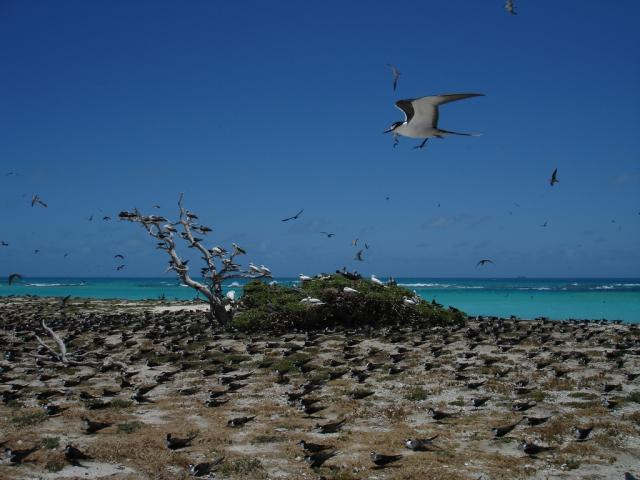Bird: (0, 1, 640, 352), (384, 91, 486, 149), (449, 316, 627, 346), (0, 440, 43, 466), (403, 433, 447, 452), (298, 452, 339, 472), (80, 416, 116, 436), (518, 440, 558, 458), (188, 458, 224, 476), (278, 387, 318, 403), (312, 418, 351, 434), (372, 451, 408, 468), (490, 422, 522, 441), (62, 446, 95, 464), (296, 442, 338, 454), (428, 408, 461, 423), (168, 434, 198, 450), (225, 415, 257, 428), (298, 404, 329, 416), (467, 397, 492, 411), (461, 380, 487, 393), (135, 383, 159, 397), (574, 427, 594, 443), (524, 418, 551, 429), (80, 389, 101, 403), (450, 371, 471, 385), (348, 392, 377, 402), (0, 392, 22, 405), (362, 361, 384, 374), (548, 368, 570, 380), (94, 365, 120, 375), (132, 396, 158, 406), (509, 401, 532, 412), (60, 379, 82, 390), (298, 383, 318, 395), (398, 296, 416, 309), (173, 387, 202, 395), (602, 349, 623, 360), (35, 374, 58, 384), (88, 402, 111, 412), (222, 384, 250, 392), (40, 405, 60, 416), (326, 370, 348, 380), (353, 374, 373, 385), (204, 400, 231, 408), (304, 377, 328, 386), (121, 370, 142, 380), (421, 362, 442, 372), (126, 352, 142, 365), (31, 392, 60, 399), (102, 388, 124, 397), (602, 399, 620, 410), (622, 373, 640, 384), (452, 364, 476, 372), (76, 372, 95, 382), (610, 358, 629, 368), (48, 366, 74, 373), (145, 360, 165, 369), (198, 370, 216, 380), (298, 366, 316, 376), (495, 368, 513, 378), (411, 339, 427, 350), (462, 351, 478, 362), (480, 357, 502, 365), (429, 348, 448, 357), (217, 377, 241, 384), (512, 388, 536, 395), (0, 366, 18, 375), (600, 384, 618, 393), (206, 390, 229, 397), (154, 374, 170, 384), (248, 346, 264, 356), (385, 368, 405, 376), (218, 366, 240, 373), (232, 373, 254, 380), (292, 358, 311, 366), (10, 276, 25, 286), (497, 347, 518, 354), (94, 352, 112, 360), (550, 351, 566, 360), (0, 438, 14, 448), (625, 470, 639, 480), (66, 362, 83, 370), (386, 354, 405, 361), (417, 334, 430, 344), (23, 346, 37, 355), (74, 344, 95, 350), (256, 361, 274, 368), (347, 368, 368, 374), (296, 398, 321, 403), (35, 356, 47, 366), (220, 345, 232, 355), (278, 376, 290, 386), (463, 342, 478, 350), (622, 336, 634, 346), (12, 384, 29, 391), (229, 358, 248, 364), (471, 337, 490, 343), (180, 349, 196, 356), (180, 362, 196, 369), (282, 336, 298, 343), (328, 359, 344, 366), (342, 352, 358, 359), (388, 357, 402, 365), (515, 378, 531, 385), (0, 376, 12, 385), (102, 346, 120, 352), (21, 336, 36, 343), (275, 368, 290, 375), (392, 347, 413, 352), (227, 332, 240, 340), (4, 356, 21, 362), (14, 330, 31, 336), (162, 370, 179, 376), (523, 354, 540, 360), (124, 343, 138, 350), (139, 349, 153, 356), (148, 339, 162, 346), (198, 355, 212, 362), (8, 341, 24, 347), (118, 337, 134, 343), (281, 349, 293, 357), (289, 346, 305, 352), (388, 338, 400, 346), (429, 346, 445, 352), (438, 334, 454, 340), (595, 338, 611, 344), (557, 355, 570, 362), (63, 342, 78, 348), (65, 333, 80, 339), (104, 330, 119, 336), (26, 368, 34, 379), (122, 380, 133, 388), (578, 358, 589, 366), (295, 358, 312, 363), (350, 339, 366, 344), (40, 346, 53, 352), (625, 326, 640, 331), (120, 330, 132, 336), (154, 352, 166, 358), (194, 335, 206, 341), (342, 346, 354, 352), (202, 344, 216, 349), (419, 332, 430, 338), (442, 340, 453, 346), (588, 331, 597, 338), (5, 348, 20, 352), (76, 350, 86, 356), (185, 339, 195, 345), (232, 335, 244, 340), (400, 336, 412, 341), (573, 352, 585, 357), (613, 344, 623, 350), (244, 343, 258, 347), (265, 344, 279, 348), (318, 475, 329, 480), (170, 346, 179, 352), (62, 338, 74, 342), (164, 342, 172, 348), (610, 326, 618, 332), (211, 330, 222, 334), (538, 347, 549, 351), (2, 241, 10, 246), (344, 341, 354, 345), (400, 330, 410, 334), (9, 352, 18, 356), (212, 335, 224, 338), (414, 290, 417, 302), (594, 330, 606, 333), (633, 339, 640, 344), (582, 337, 590, 341), (628, 322, 636, 326), (632, 350, 640, 354), (574, 337, 580, 342)
